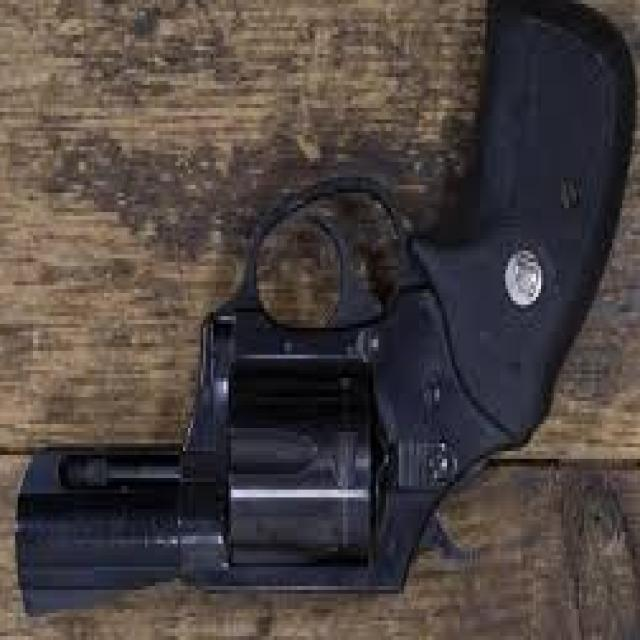Gun: (5, 0, 638, 640)
